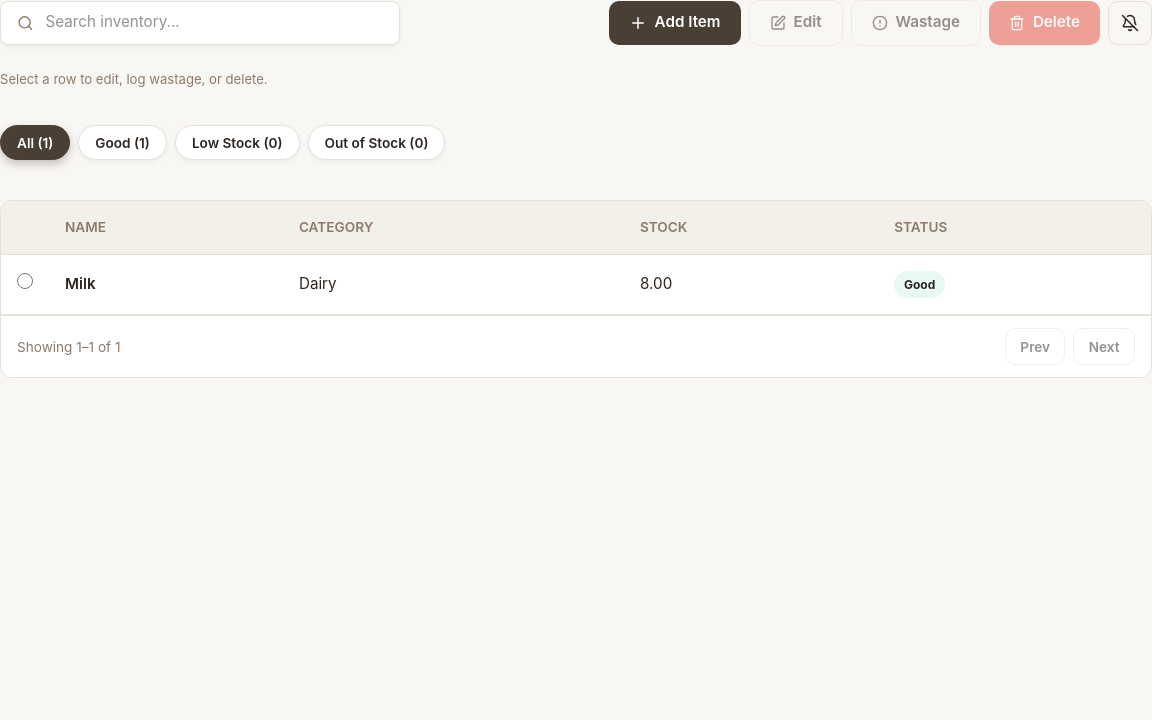
Scenario: InventoryPage roles › should queue an offline edit with its on-screen base quantity
The width and height of the screenshot is (1152, 720).
Check: the text "Milk" is shown, box [49,254,283,315]
Click the radio button with test id "select-item-i1" at (25, 281), box [17,273,33,289]
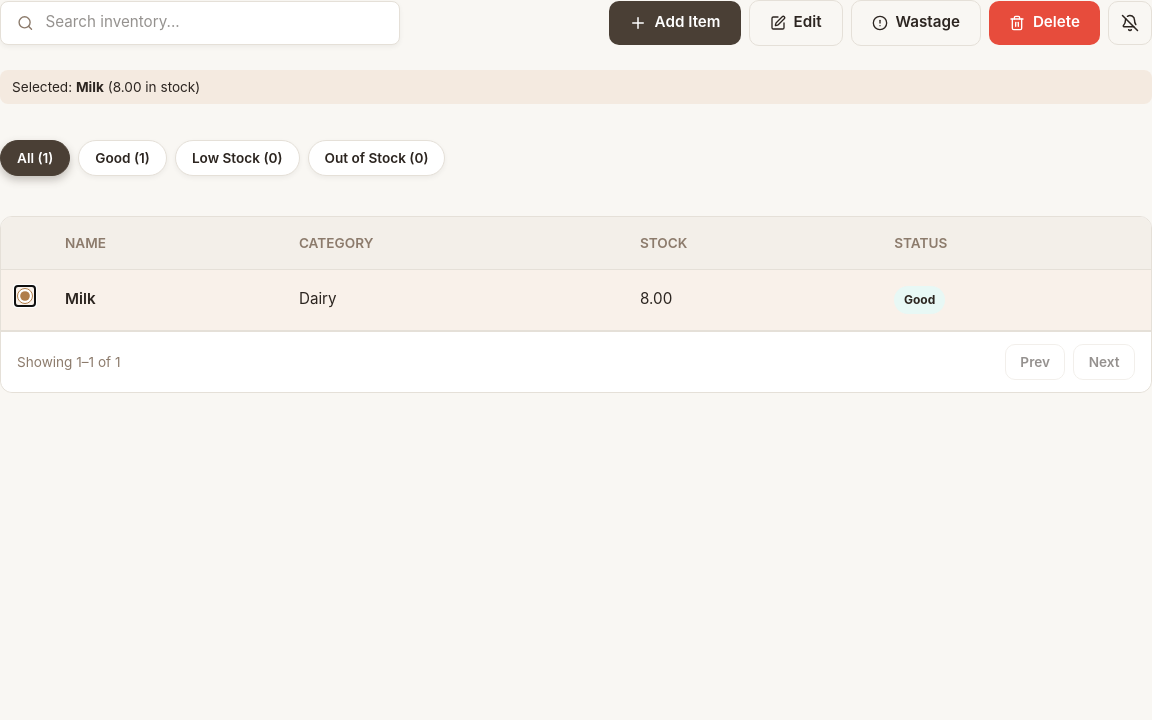
Click the button with test id "toolbar-edit-btn" at (796, 23), box [748,0,842,46]
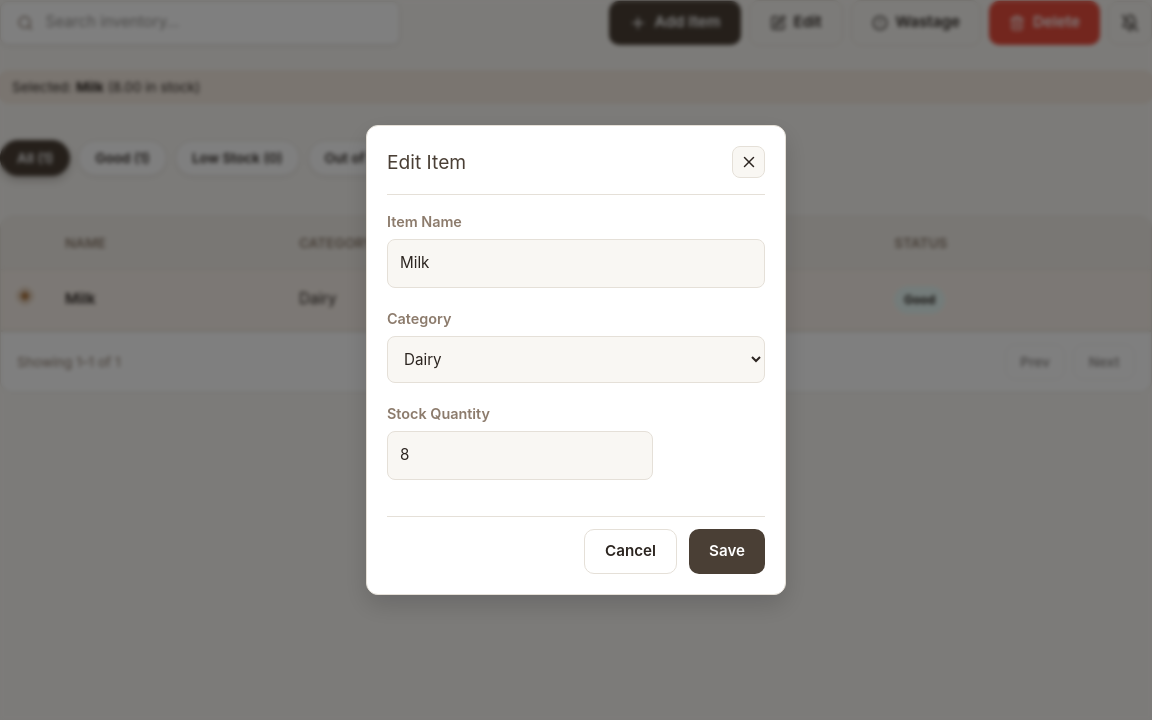
Replace the text in the number field with placeholder "0" with "5" at (520, 456), box [387,431,653,480]
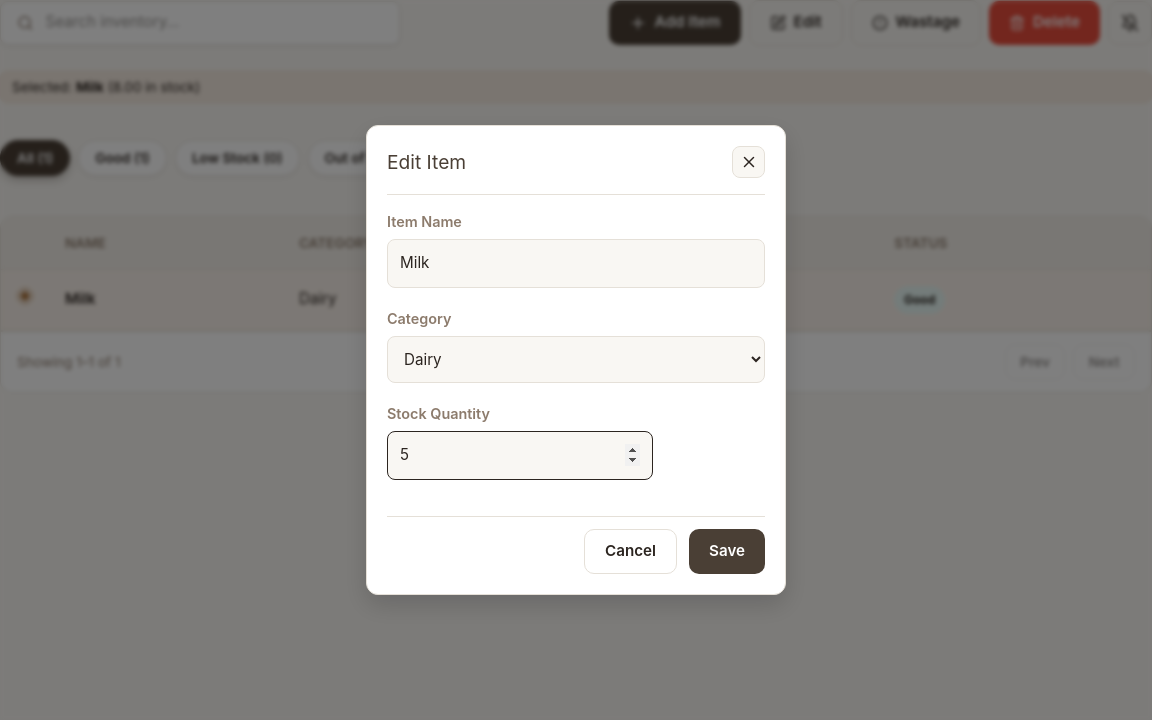
Click the button "Save" at (727, 552), box [689,529,765,574]
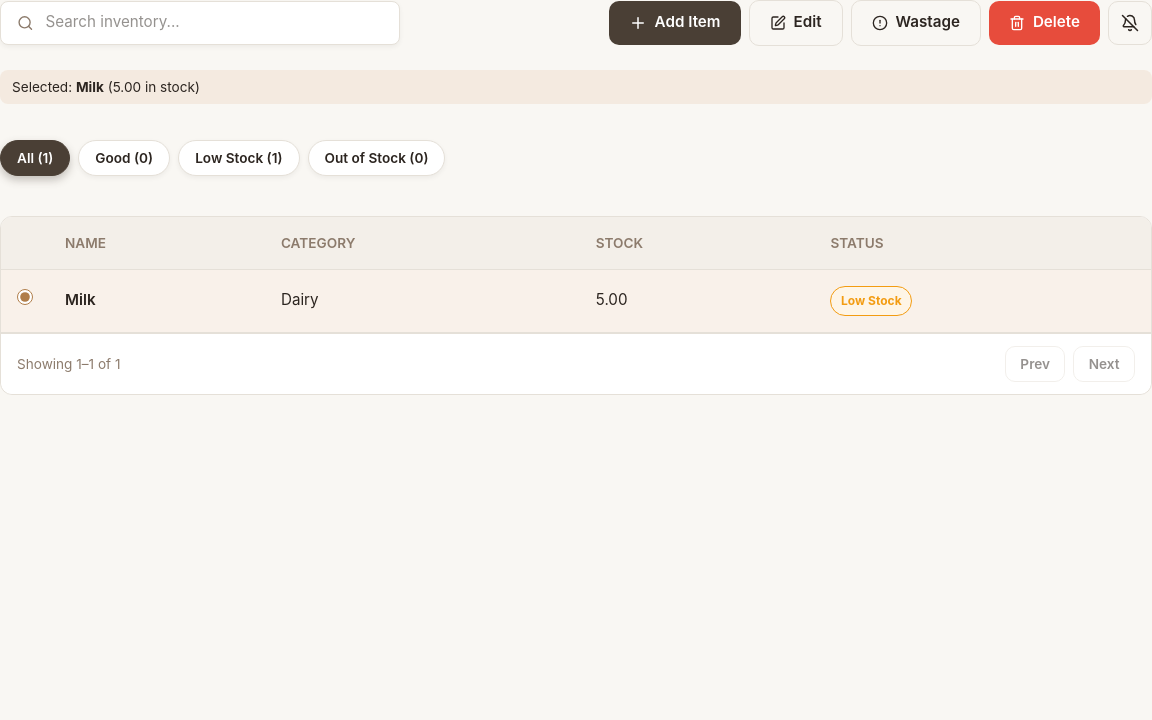
Check: the row with test id "select-item-i1" shows "5", box [596,290,628,309]
